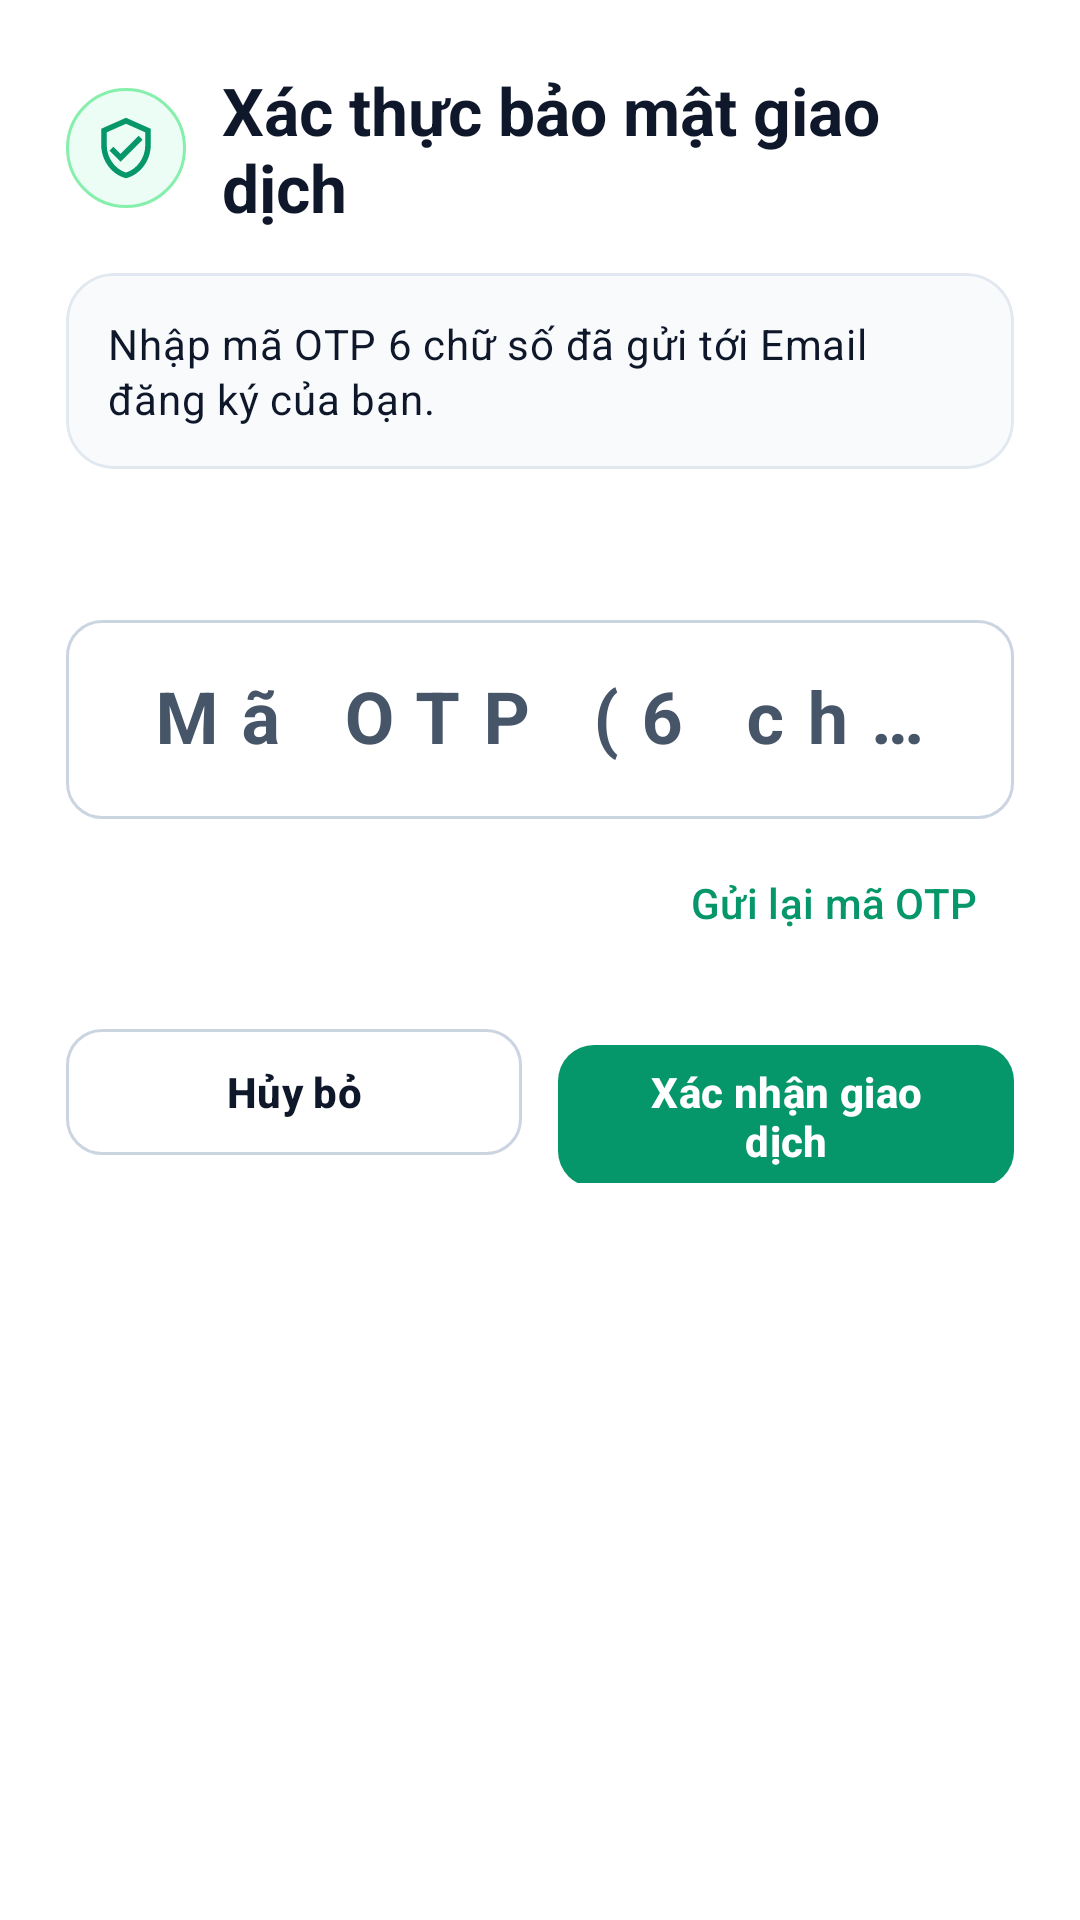

Screen size 1080×1920. Icon name, then its center in pixels as (x=x, y=y):
shield check: (x=126, y=148)
